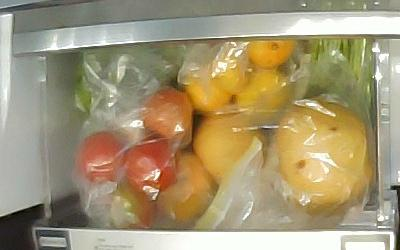pear_vinyl: (274, 100, 372, 212), (193, 112, 268, 185)
tangerine_vinyl: (236, 68, 290, 120), (184, 65, 232, 111), (245, 38, 295, 68), (211, 56, 250, 94)
tomato_vinyl: (155, 151, 212, 220), (122, 138, 176, 192), (141, 87, 192, 142), (78, 133, 123, 184), (108, 184, 155, 229)
